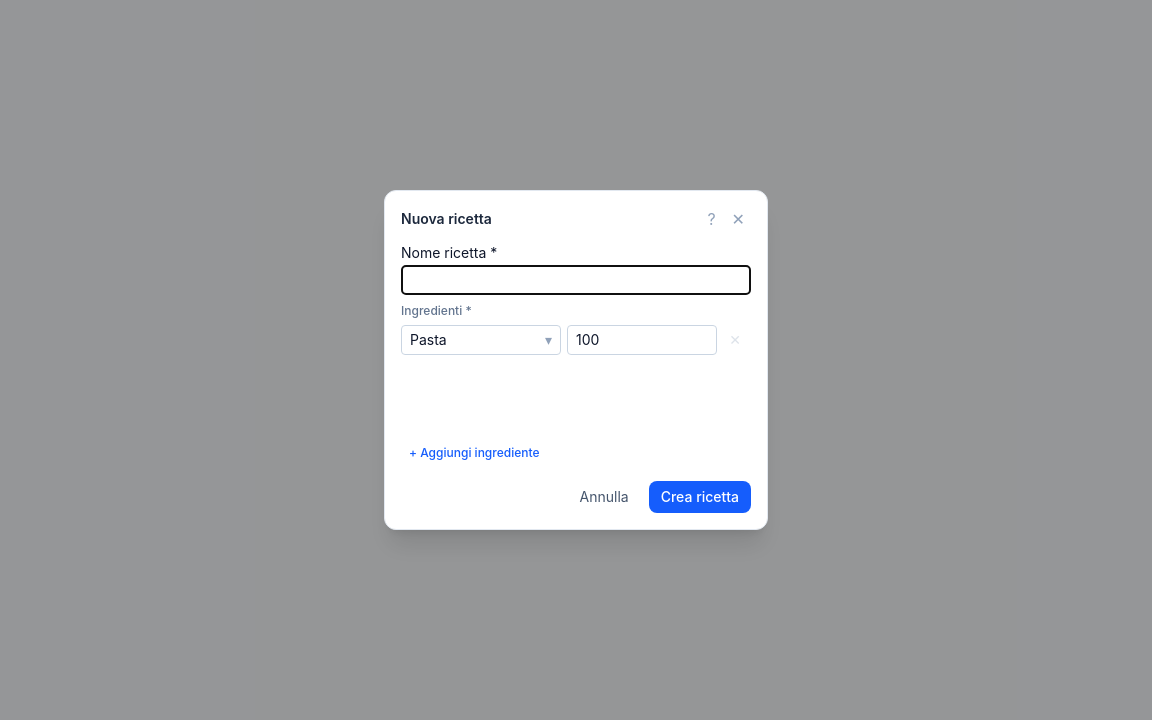
RicettaFormModal - nuova ricetta › RicettaFormModal_duesRighe_ilBottoneRimuoviTogieUnaRiga
Click the button "+ Aggiungi ingrediente": (474, 453) left=401, top=441, right=548, bottom=465
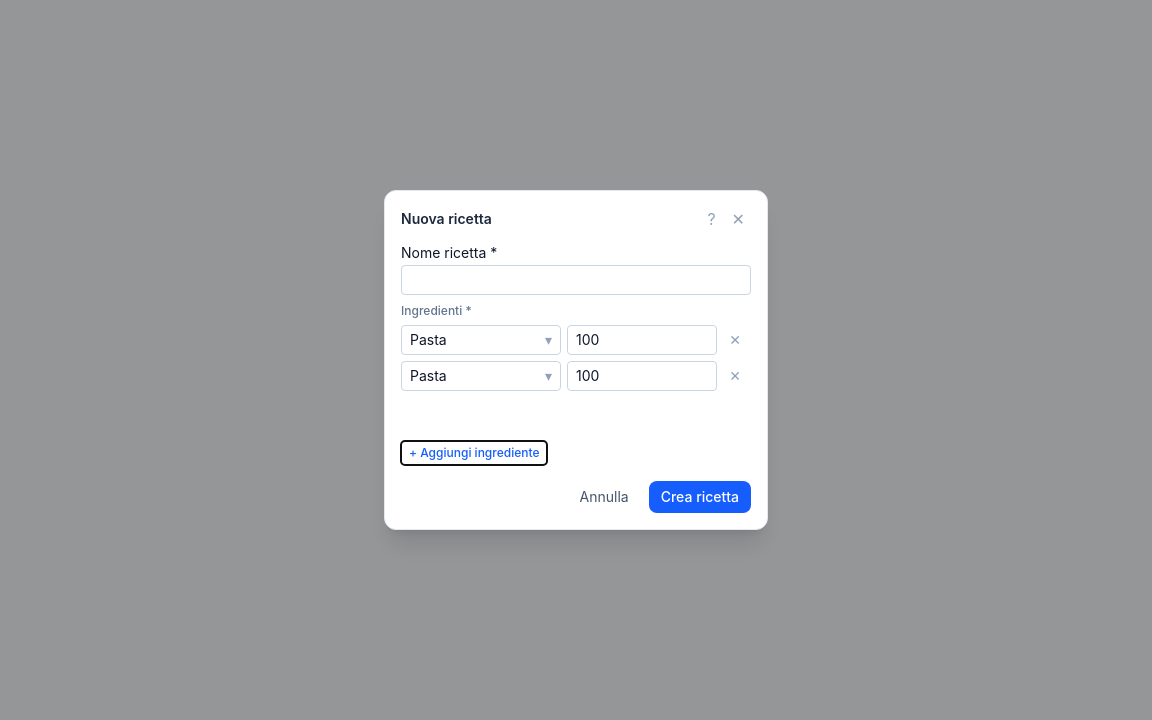
Click the 2nd button titled "Rimuovi ingrediente": (735, 340) left=723, top=330, right=747, bottom=350
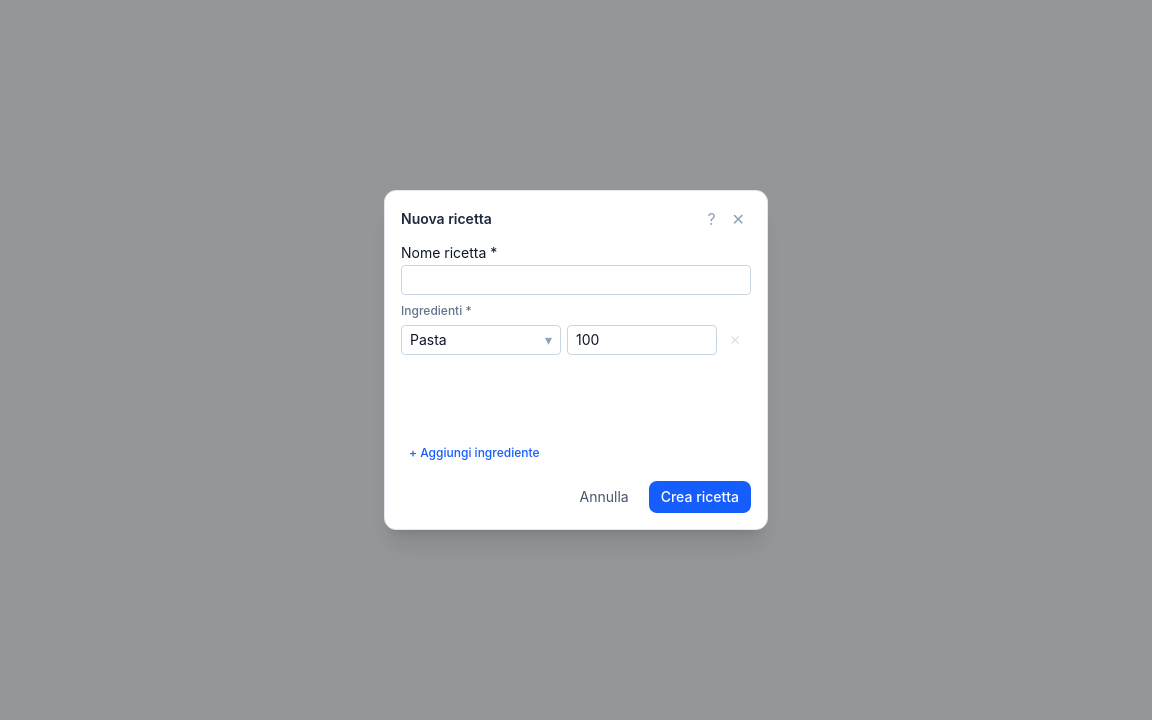
Now the number of number fields is 1, box left=567, top=325, right=717, bottom=355
